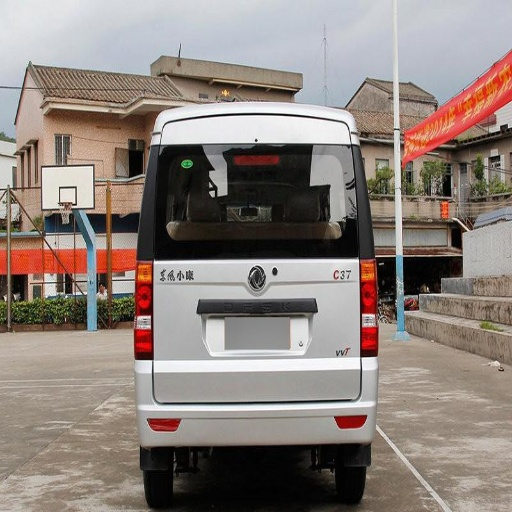back_bumper: (136, 359, 376, 442)
tailgate: (203, 240, 338, 354)
trunk: (155, 259, 361, 403)
